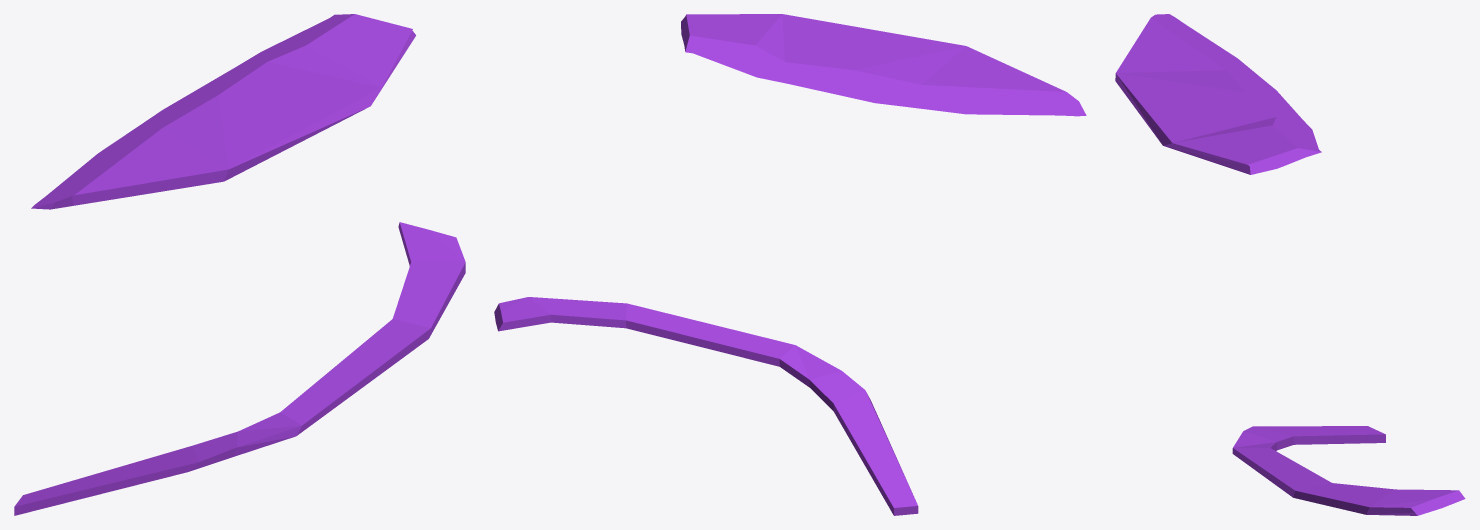
Rendered from Glass_100_1_chunks.fbx.
3 views of the same model, side by side, from view 1: azimuth 30°, elevation 25°; view 2: azimuth 150°, elevation 25°; view 3: azimuth 270°, elevation 25° (orthographic). The views are drawn at different scales.
Visible parts, largest first — view 1: Glass_100_1_2, Glass_100_1_1, Glass_100_1_0, Glass_100_1_5, Glass_100_1_6; view 2: Glass_100_1_2, Glass_100_1_1, Glass_100_1_5, Glass_100_1_0, Glass_100_1_6; view 3: Glass_100_1_2, Glass_100_1_1, Glass_100_1_0, Glass_100_1_5, Glass_100_1_6.
Part boxes in pixels (x1,y1,x2,y2): Glass_100_1_2: [112, 14, 415, 159]; Glass_100_1_1: [243, 222, 465, 443]; Glass_100_1_0: [72, 130, 316, 449]; Glass_100_1_5: [14, 429, 257, 515]; Glass_100_1_6: [39, 144, 119, 209]; Glass_100_1_2: [681, 14, 988, 111]; Glass_100_1_1: [494, 297, 820, 385]; Glass_100_1_5: [806, 364, 918, 515]; Glass_100_1_0: [813, 31, 1067, 364]; Glass_100_1_6: [947, 89, 1082, 115]; Glass_100_1_2: [1142, 46, 1321, 174]; Glass_100_1_1: [1232, 438, 1465, 515]; Glass_100_1_0: [1115, 17, 1245, 441]; Glass_100_1_5: [1241, 426, 1385, 450]; Glass_100_1_6: [1151, 14, 1245, 64].
Size of the model in its own units: 2222 by 1737 by 1299.
